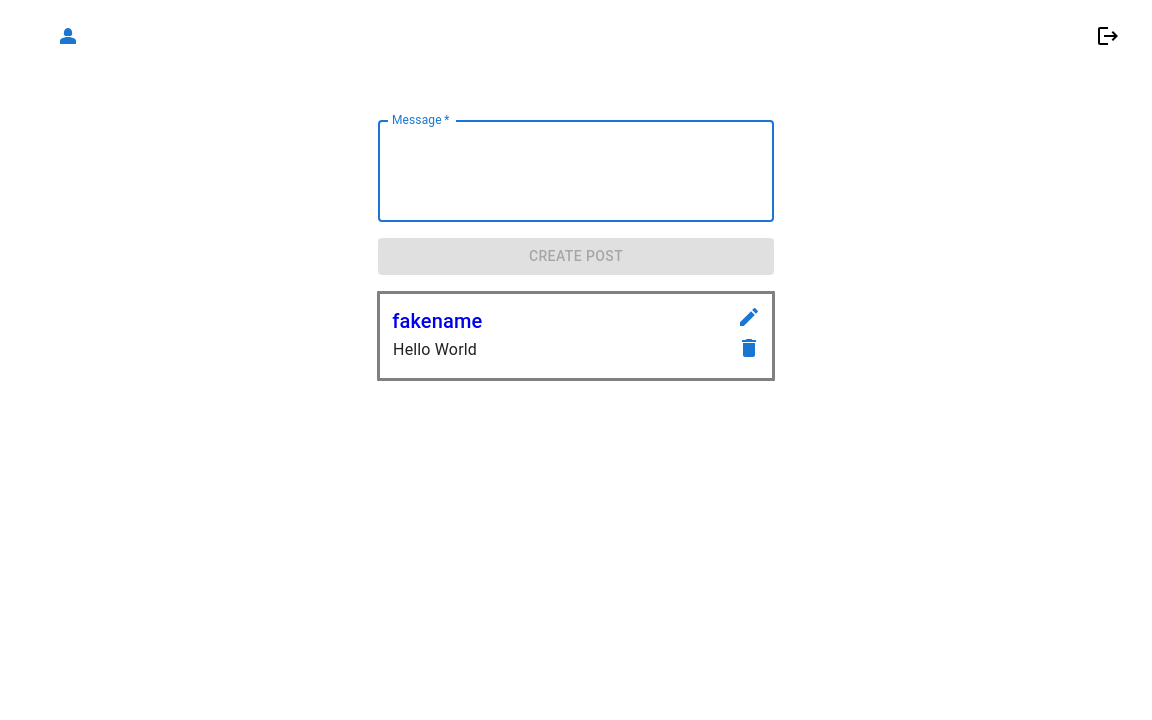
Test: delete post modal › should open modal for deleting the post if the delete link is clicked
What coordinates should you click on to do the following:
click the link named "delete-icon"
I would click on:
 (749, 354)
Its box is [737,344,761,364].
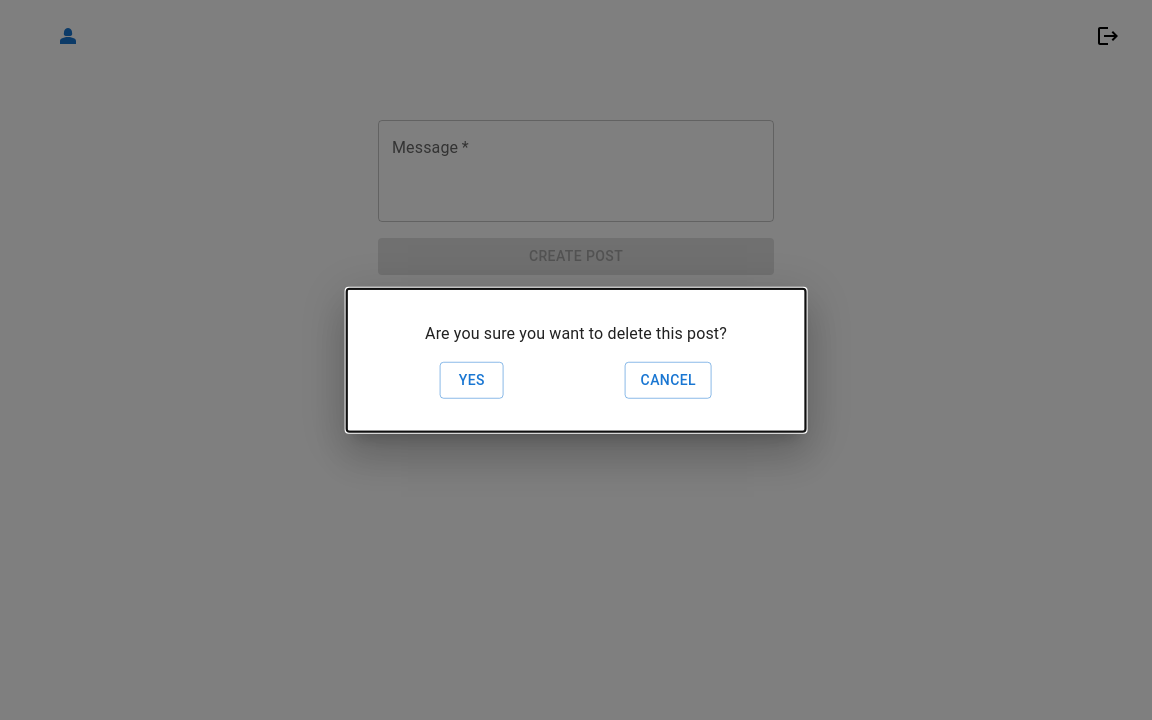
Check: the element with test id "delete-modal" is shown
